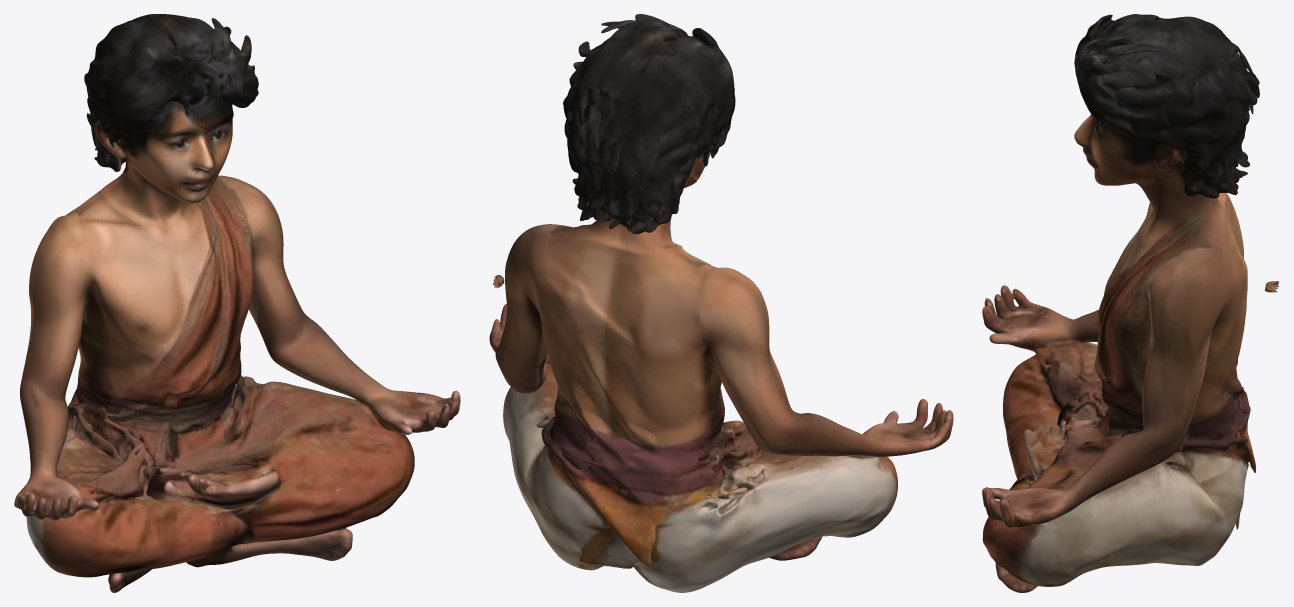
Rendered from HarSar-transformed.glb.
3 renders of one model, left to right at view 1: azimuth 30°, elevation 25°; view 2: azimuth 150°, elevation 25°; view 3: azimuth 270°, elevation 25°, orthographic. The views are drawn at different scales.
Size of the model in its own units: 1.77 by 1.99 by 1.02.
Materials: 1 (1 with a texture image).
